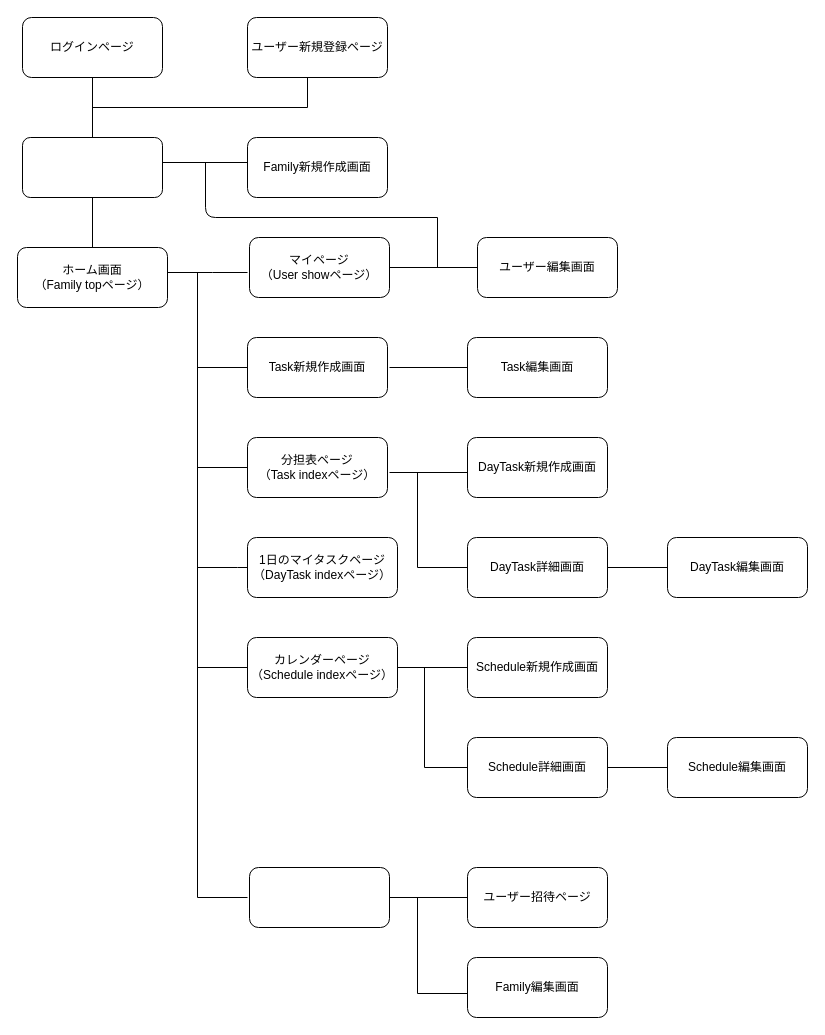
The diagram is 825 pixels wide and 1035 high, and some of its shapes have lost their labels. The box of each missing label's shape, as (x1, y1, x2, y2) in pixels:
Family詳細: (248, 866, 390, 928)
マイページ (User showページ): (22, 136, 162, 198)
